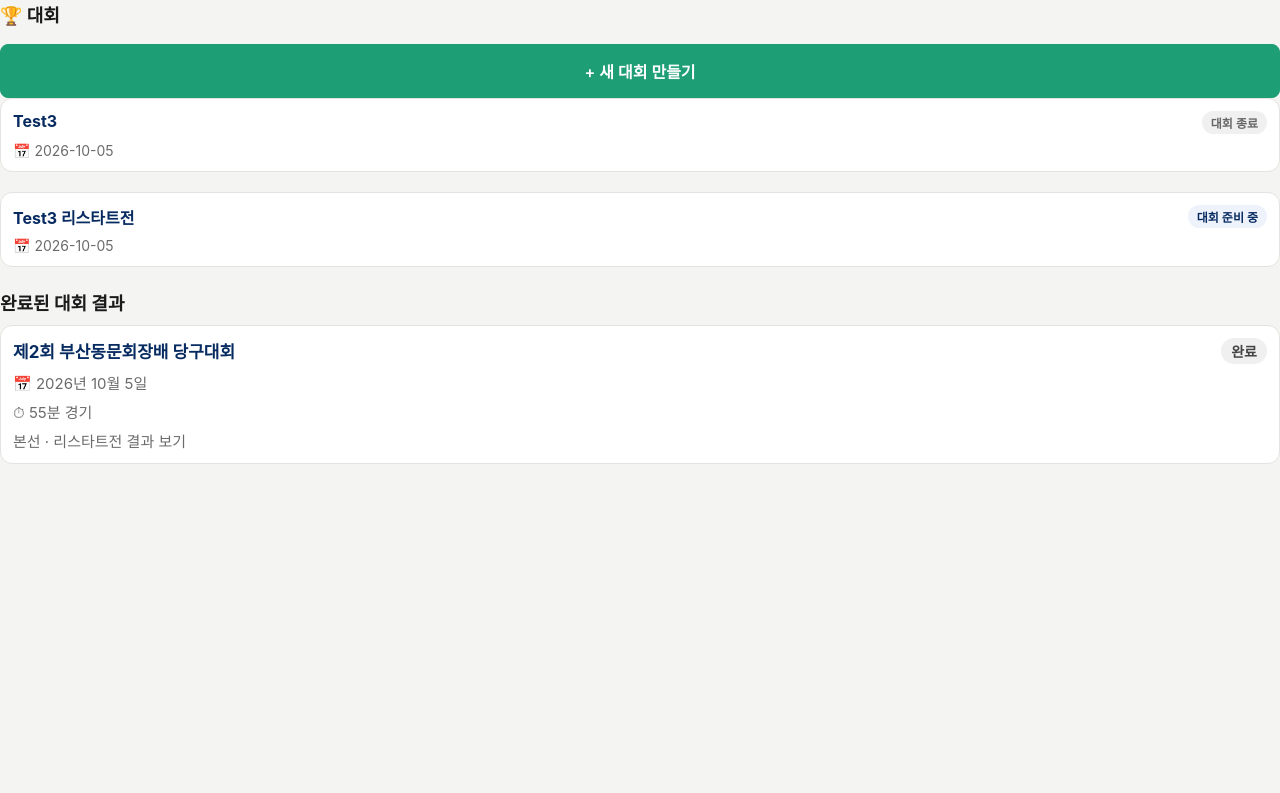
Test: 경기결과 공유 — 관리자 화면 › 하이런상은 직접 입력한 이름이 카드와 문구에만 쓰이고, 비어 있으면 줄을 뺀다
Click the text "Test3" at (35, 121), box [13,111,57,131]
(page scrolled)
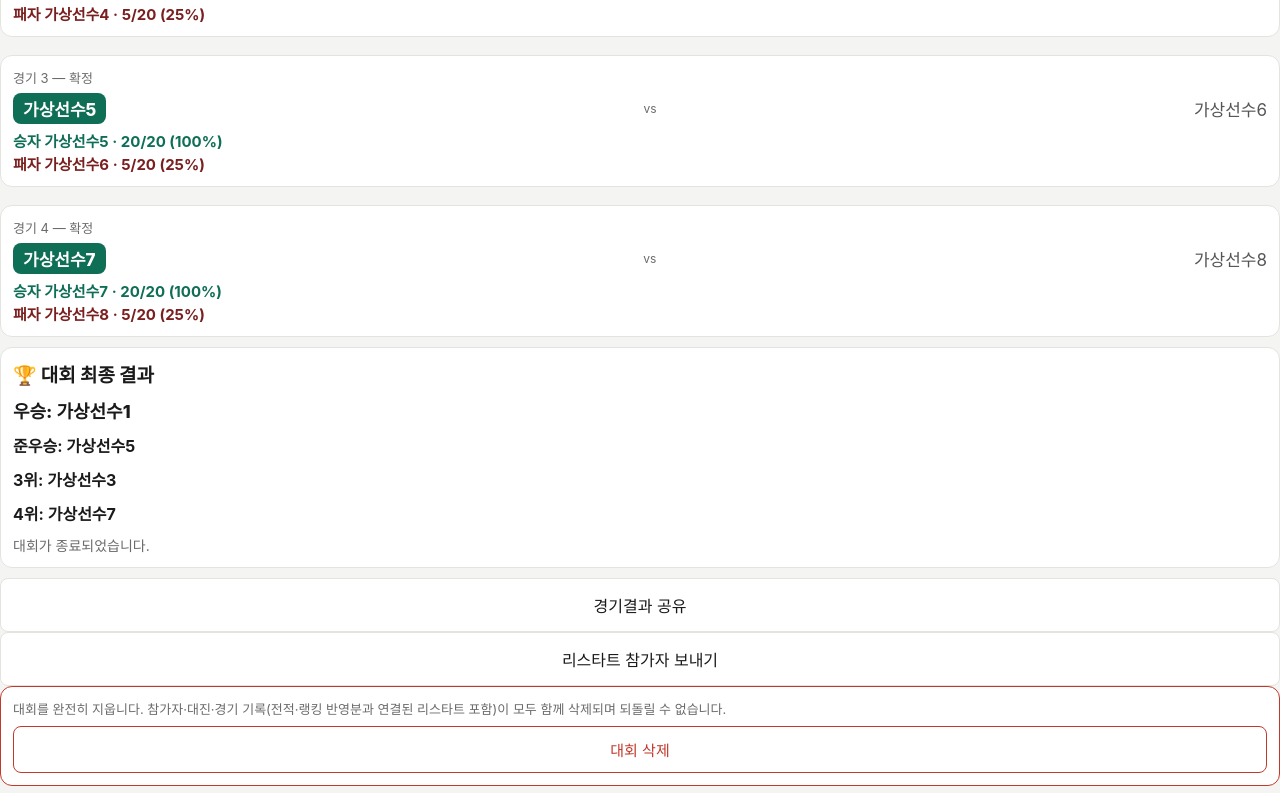
Click the button "경기결과 공유" at (640, 605), box [0,578,1279,632]
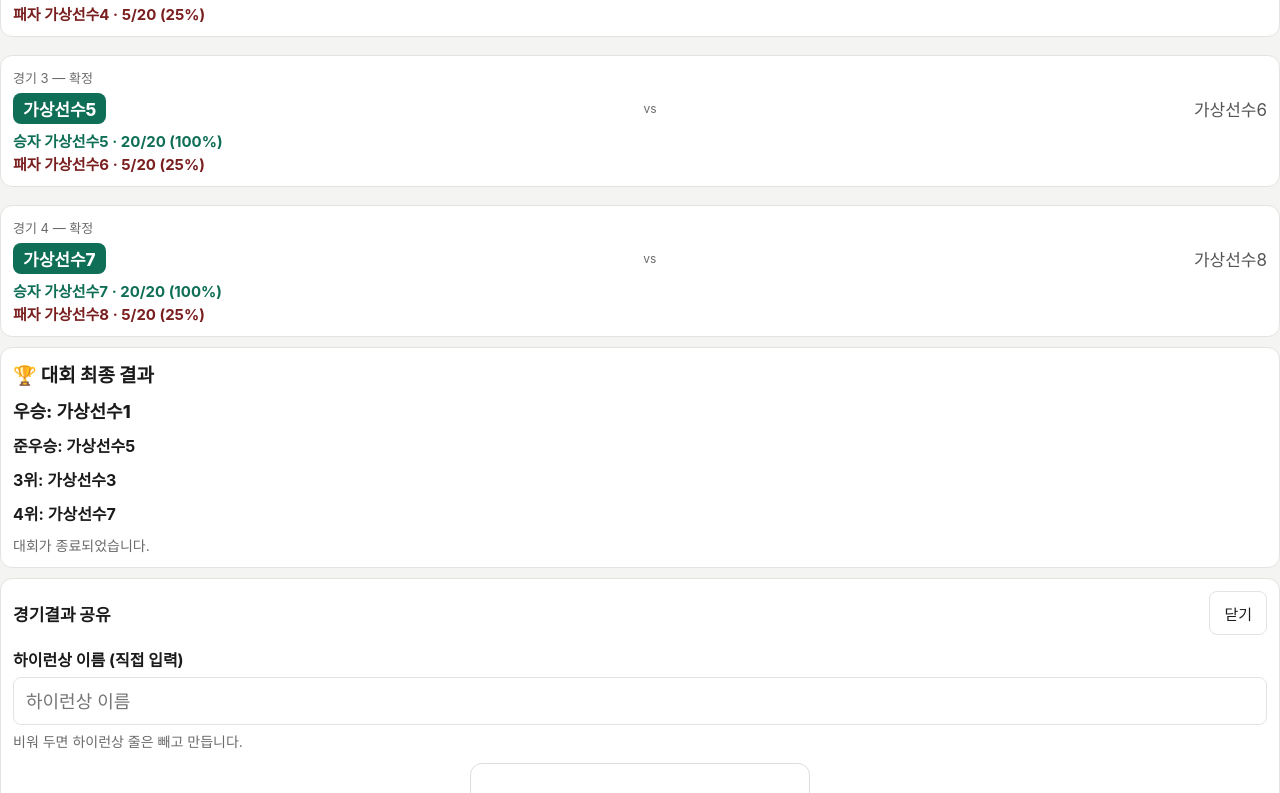
Check: the text "비워 두면 하이런상 줄은 빼고 만듭니다." is shown, box [13,733,243,750]
Type "가상하이런" into the field with placeholder "하이런상 이름" at (640, 701), box [13,677,1267,725]
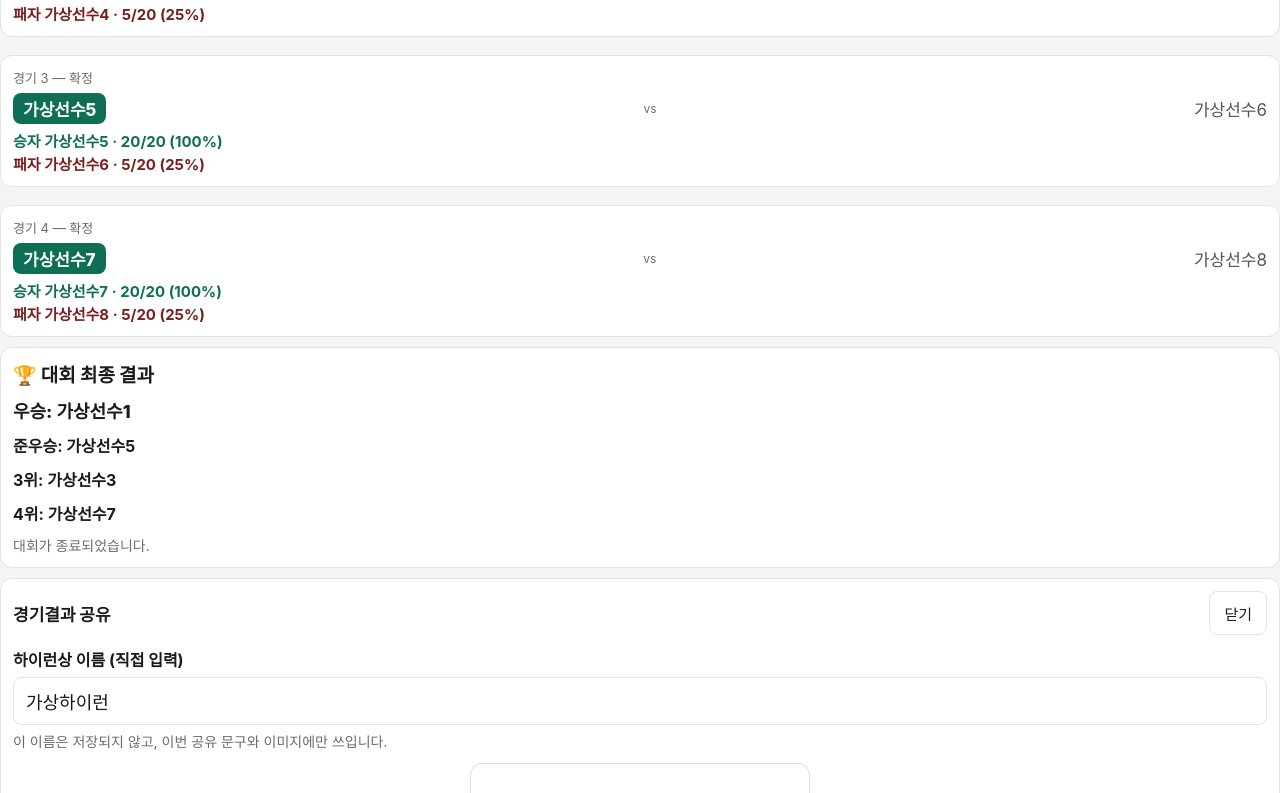
Check: the text "이 이름은 저장되지 않고, 이번 공유 문구와 이미지에만 쓰입니다." is shown, box [13,733,388,750]
